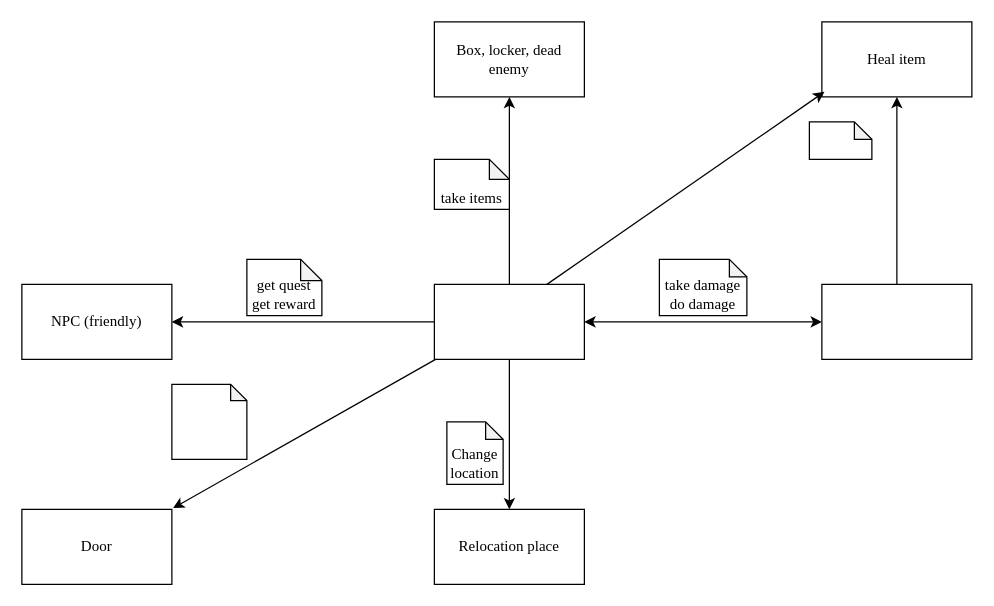
The diagram is 994 pixels wide and 606 high, and some of its shapes have lost their labels. The box of each missing label's shape, as (x1, y1, x2, y2) in pixels:
hack use key open close: (171, 383, 247, 459)
NPC (enemy): (821, 283, 972, 359)
Player: (433, 283, 584, 359)
use: (808, 121, 872, 159)
